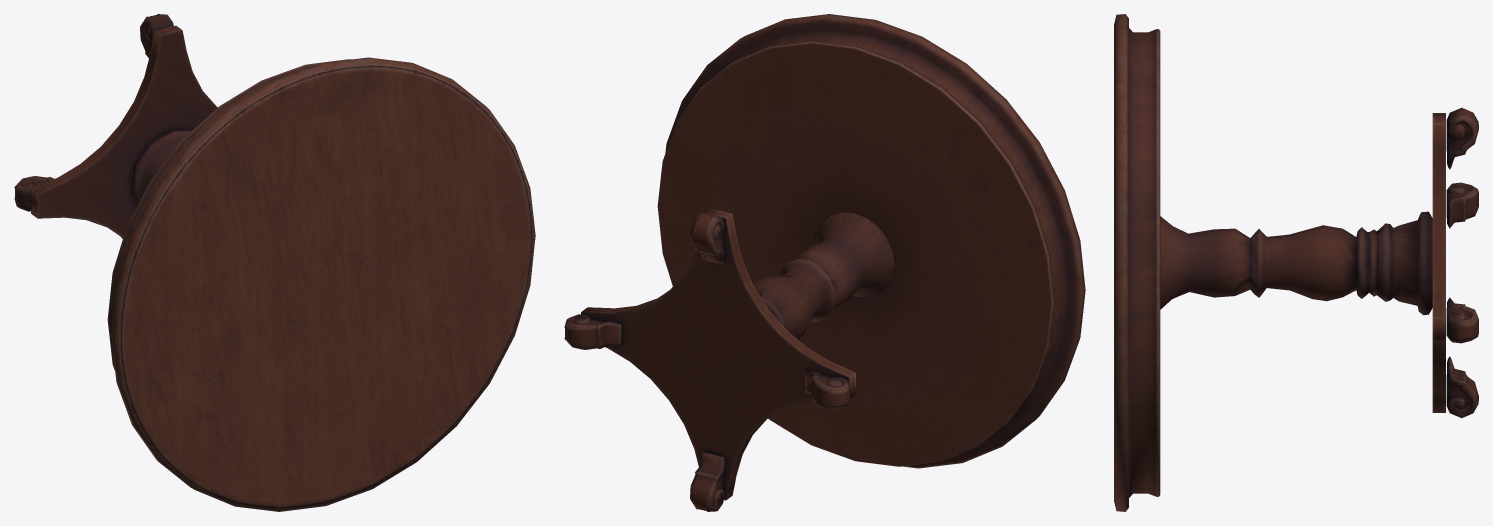
File: table.fbx
3 views of the same model, side by side, from view 1: azimuth 30°, elevation 25°; view 2: azimuth 150°, elevation 25°; view 3: azimuth 270°, elevation 25° (orthographic). The views are drawn at different scales.
Visible parts, largest first — view 1: Table_top_low, Socle_low, Cylinder_low, Pieds_low; view 2: Table_top_low, Socle_low, Cylinder_low, Pieds_low; view 3: Table_top_low, Cylinder_low, Pieds_low, Socle_low.
Part boxes in pixels (x1=…): Table_top_low: x1=107, y1=57, x2=535, y2=511; Socle_low: x1=31, y1=25, x2=217, y2=238; Cylinder_low: x1=131, y1=130, x2=192, y2=204; Pieds_low: x1=14, y1=14, x2=173, y2=211; Table_top_low: x1=657, y1=14, x2=1085, y2=468; Socle_low: x1=581, y1=208, x2=855, y2=500; Cylinder_low: x1=753, y1=212, x2=894, y2=340; Pieds_low: x1=564, y1=213, x2=850, y2=511; Table_top_low: x1=1114, y1=14, x2=1160, y2=511; Cylinder_low: x1=1160, y1=211, x2=1432, y2=315; Pieds_low: x1=1446, y1=107, x2=1478, y2=418; Socle_low: x1=1432, y1=113, x2=1445, y2=412.
Bounding box in the file's own units: 2.45 × 2.45 × 1.79.
